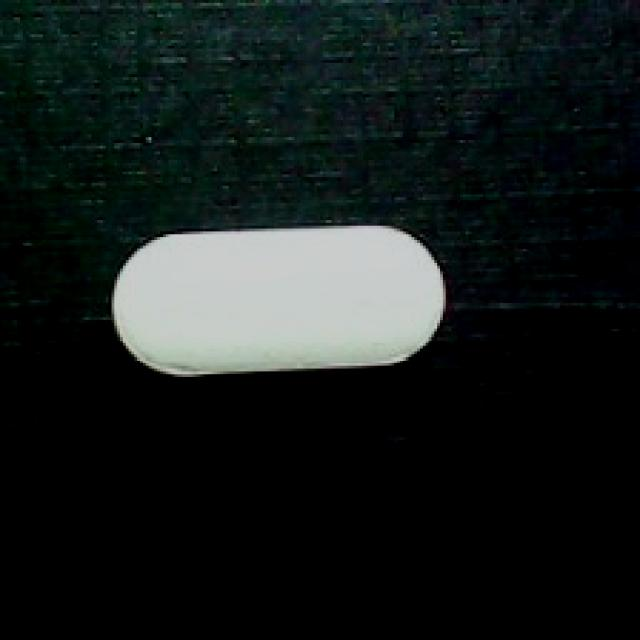no-defect: (109, 223, 451, 391)
